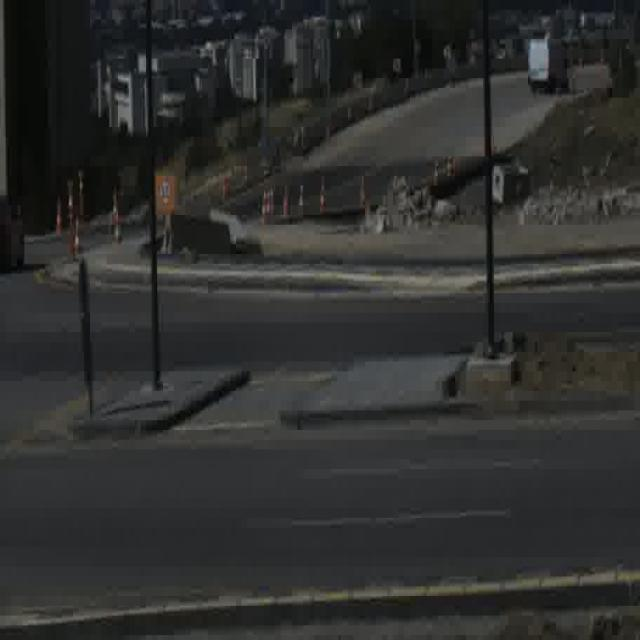Car: (528, 36, 570, 93)
